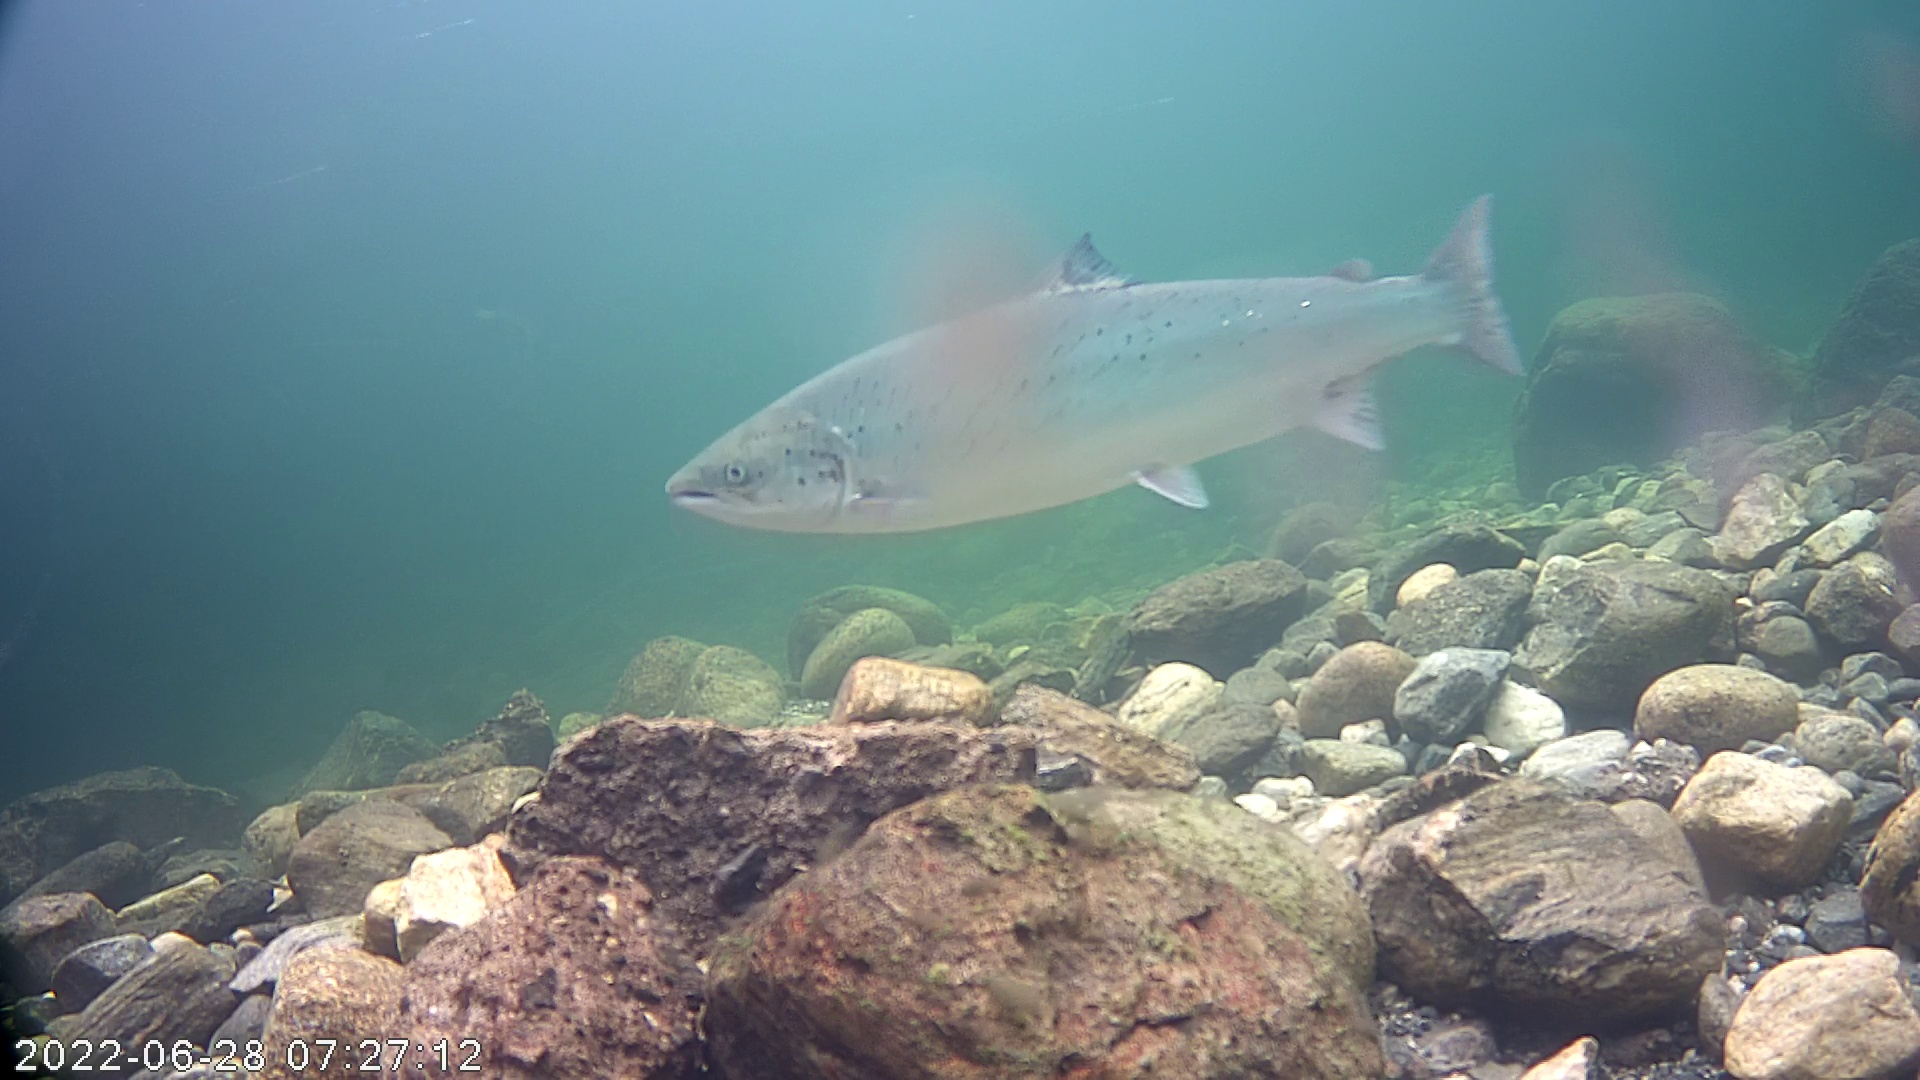salmon: (659, 138, 1548, 574)
